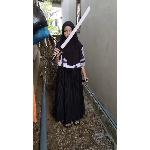Pedang: (49, 4, 92, 62)
